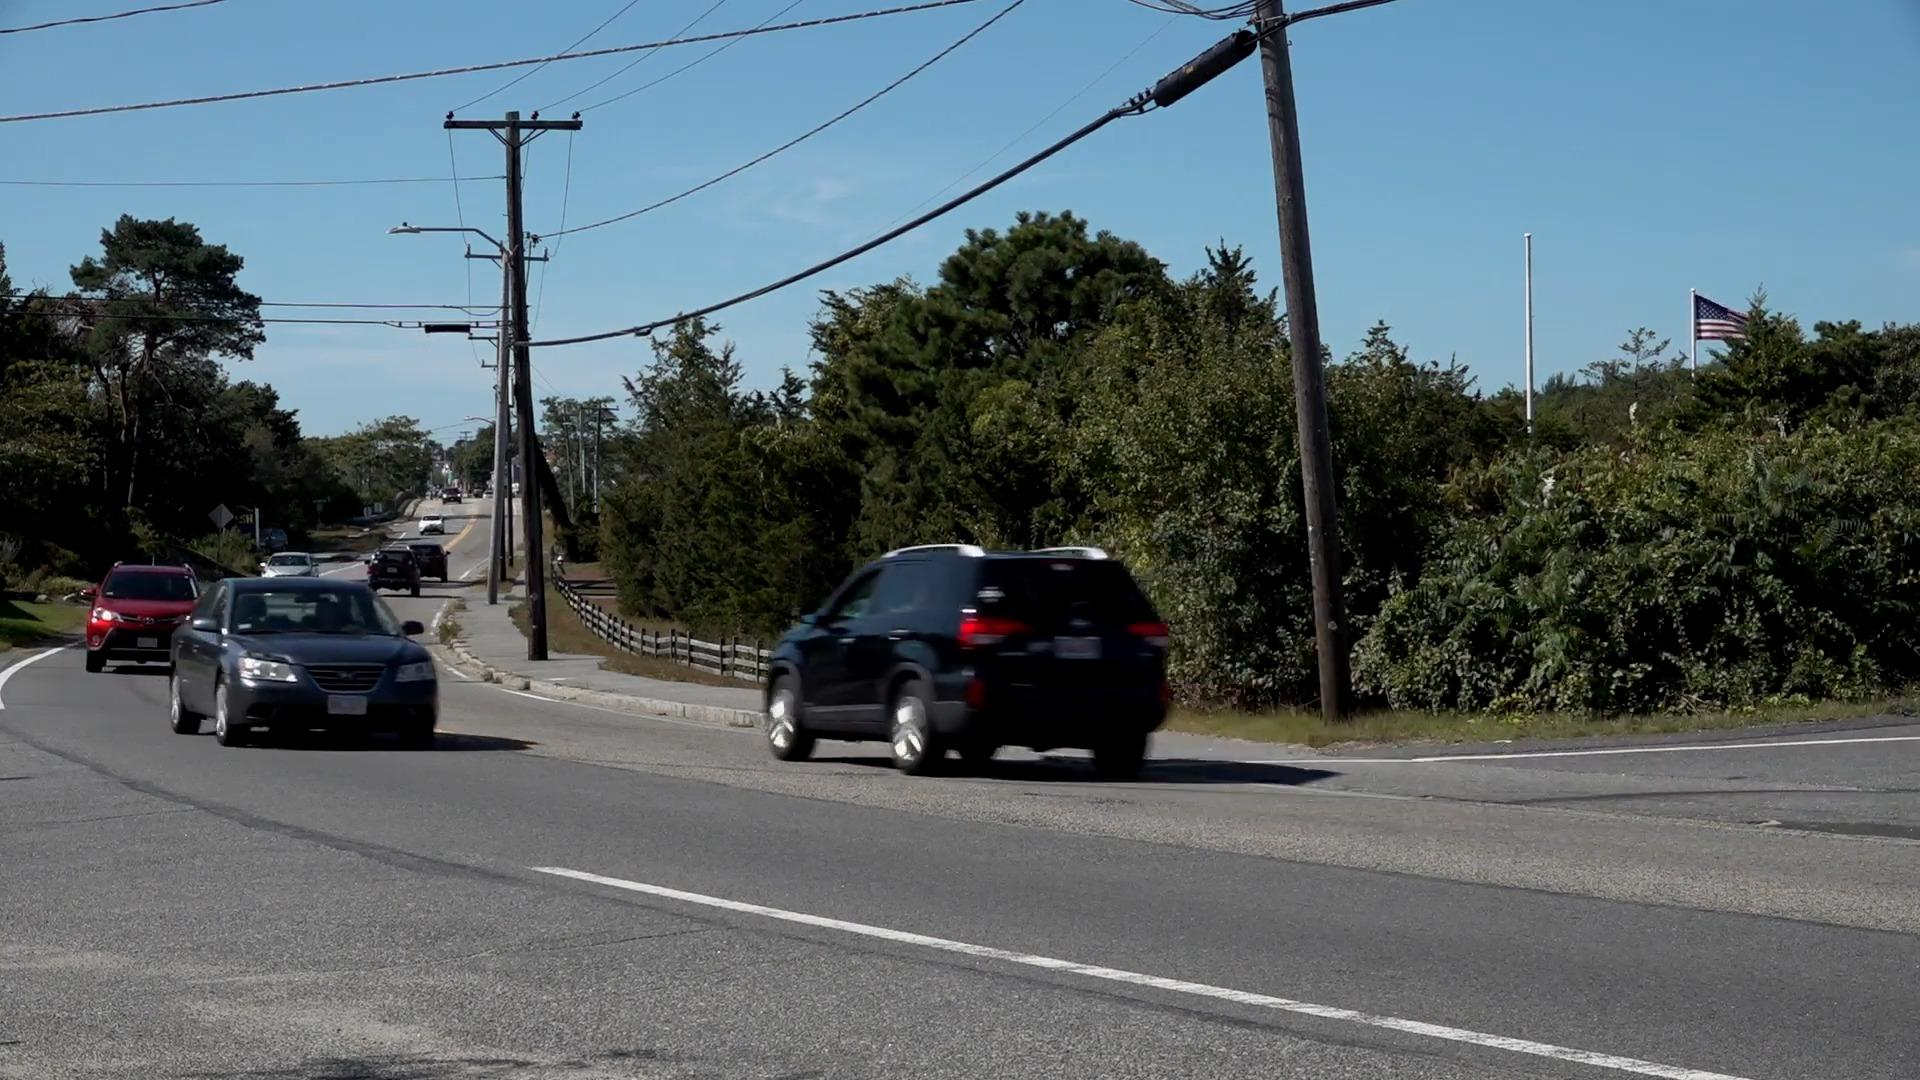sedans: (171, 576, 444, 753)
suv: (765, 538, 1176, 781), (83, 558, 196, 674)
